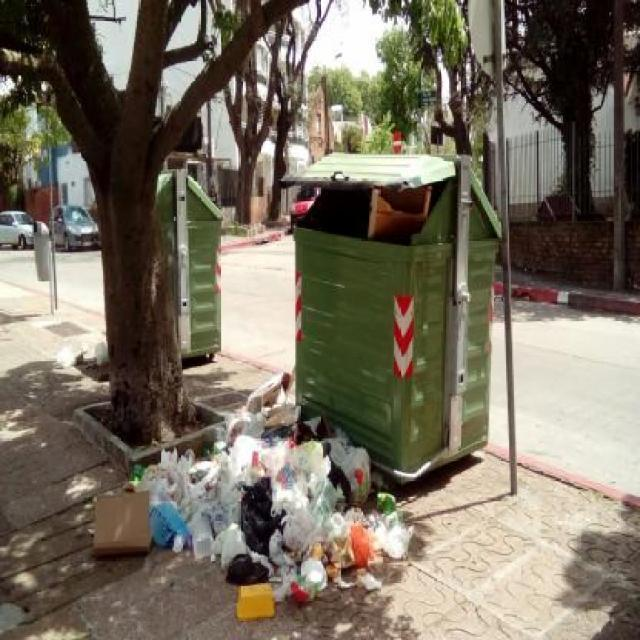garbage: (96, 403, 413, 592), (365, 180, 432, 251), (56, 339, 115, 370), (248, 383, 299, 414)
